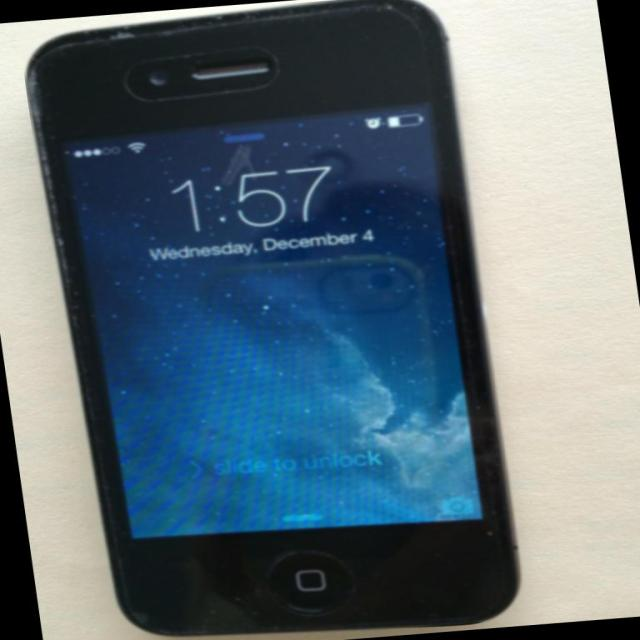handphone: (50, 0, 521, 639)
